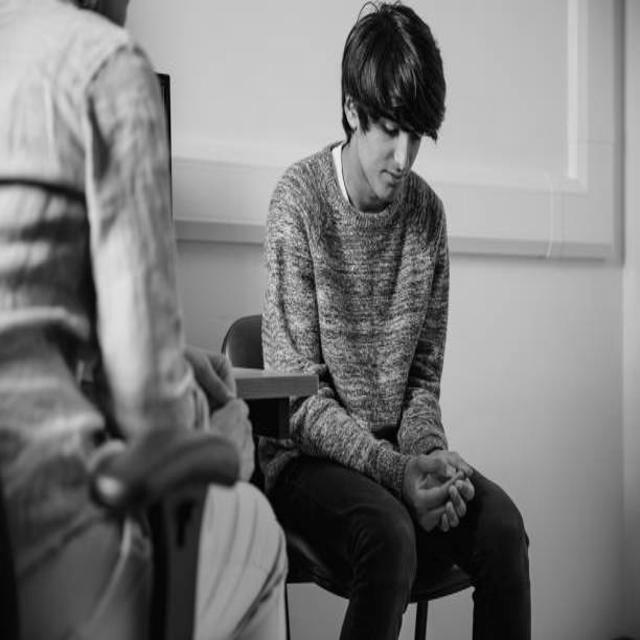Sadness: (352, 107, 425, 203)
